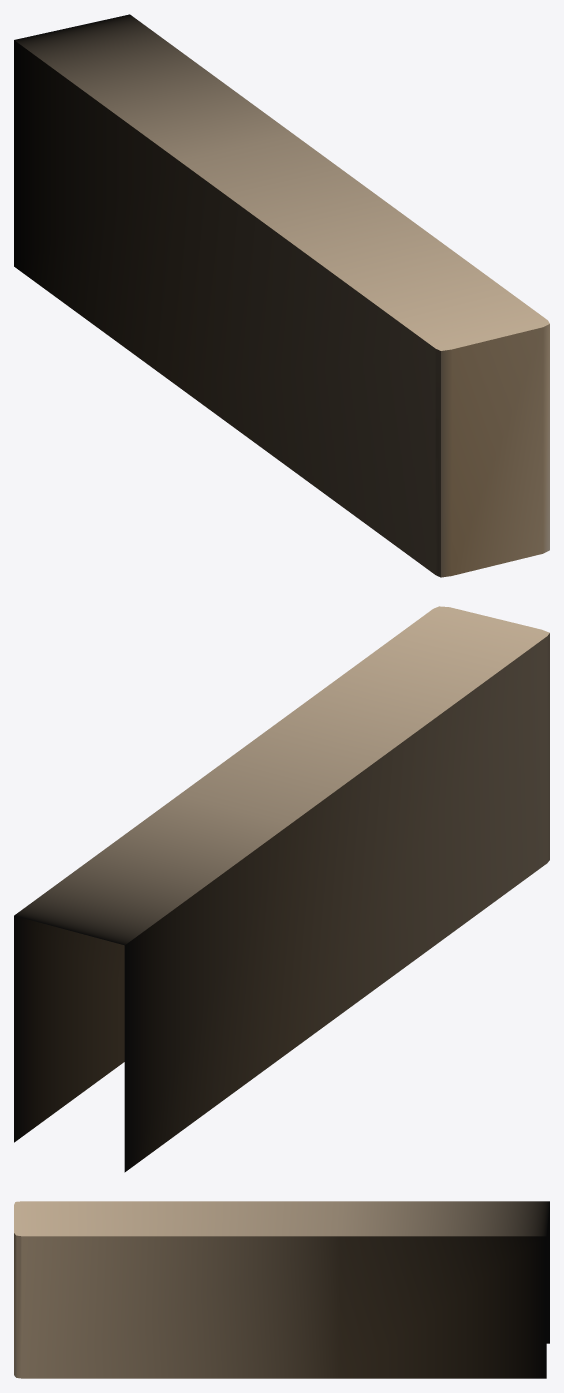
File: Monolith.fbx
3 views of the same model, one above another, from view 1: azimuth 30°, elevation 25°; view 2: azimuth 150°, elevation 25°; view 3: azimuth 270°, elevation 25° (orthographic). The views are drawn at different scales.
Parts seen in each view (by area): view 1: Monolith; view 2: Monolith; view 3: Monolith.
Part boxes in pixels (left/top/right/bottom): Monolith: left=14, top=14, right=549, bottom=577; Monolith: left=14, top=606, right=549, bottom=1172; Monolith: left=14, top=1201, right=549, bottom=1378.
Size of the model in its own units: 197 by 376 by 1283.
